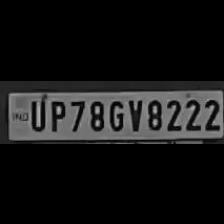2: (163, 96, 181, 130), (182, 96, 200, 130), (200, 95, 218, 129)
7: (67, 96, 85, 132)
8: (86, 96, 106, 130), (145, 96, 163, 130)
G: (107, 96, 125, 130)
P: (46, 96, 66, 130)
U: (26, 96, 46, 130)
V: (125, 96, 142, 132)
